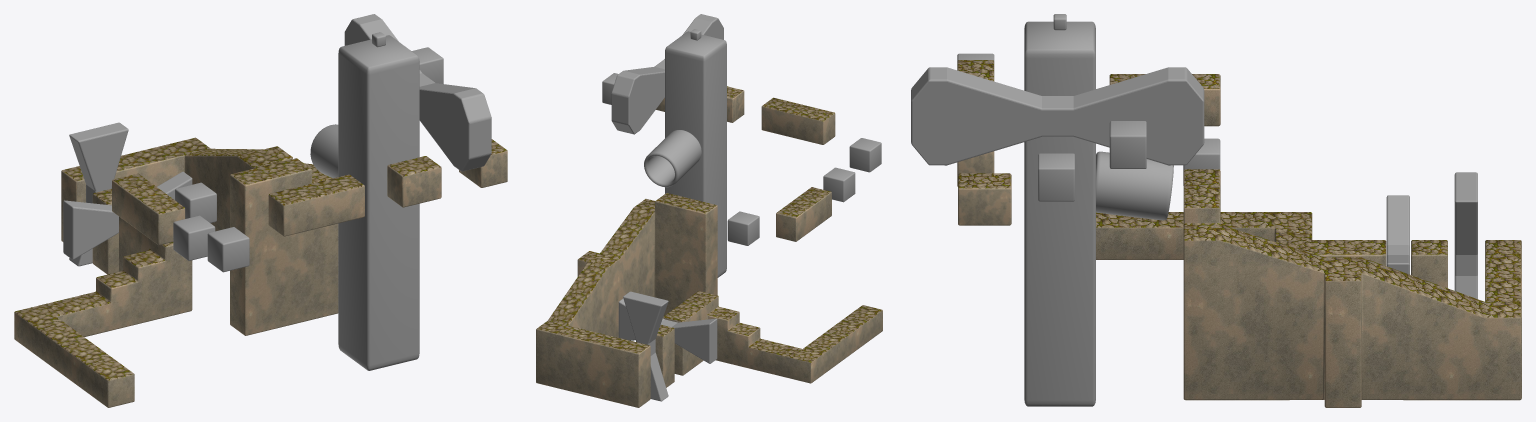
The picture shows the model from 3 angles, left to right: view 1: azimuth 30°, elevation 25°; view 2: azimuth 150°, elevation 25°; view 3: azimuth 270°, elevation 25°; orthographic projection. The views are drawn at different scales.
Visible parts, largest first — view 1: Statics, Cube.005, Propeller.3, Propeller.1, Propeller.2, FloatingPlatform.3, FloatingPlatform.2, BallShooter, FloatingPlatform.1, FloatingPlatform.5; view 2: Statics, Cube.005, Propeller.3, Propeller.1, BallShooter, Propeller.2, FloatingPlatform.1, FloatingPlatform.3, FloatingPlatform.2, FloatingPlatform.5; view 3: Statics, Cube.005, Propeller.3, BallShooter, Propeller.1, FloatingPlatform.5, Propeller.2, FloatingPlatform.4, FloatingPlatform.1.
Part boxes in pixels (x1,y1,x2,y2): Statics: [14, 137, 507, 407]; Cube.005: [338, 35, 419, 370]; Propeller.3: [344, 14, 491, 171]; Propeller.1: [69, 122, 128, 266]; Propeller.2: [63, 171, 192, 259]; FloatingPlatform.3: [207, 227, 249, 272]; FloatingPlatform.2: [173, 215, 215, 260]; BallShooter: [310, 124, 338, 178]; FloatingPlatform.1: [175, 182, 216, 222]; FloatingPlatform.5: [412, 47, 443, 83]; Statics: [536, 86, 882, 407]; Cube.005: [665, 31, 726, 277]; Propeller.3: [611, 14, 723, 134]; Propeller.1: [623, 291, 668, 401]; BallShooter: [644, 130, 701, 187]; Propeller.2: [618, 298, 717, 363]; FloatingPlatform.1: [727, 211, 759, 245]; FloatingPlatform.3: [849, 138, 881, 172]; FloatingPlatform.2: [823, 167, 855, 202]; FloatingPlatform.5: [602, 73, 618, 104]; Statics: [957, 60, 1521, 407]; Cube.005: [1024, 21, 1095, 406]; Propeller.3: [911, 67, 1204, 165]; BallShooter: [1096, 151, 1173, 220]; Propeller.1: [1454, 172, 1477, 298]; FloatingPlatform.5: [1109, 121, 1146, 168]; Propeller.2: [1386, 195, 1409, 274]; FloatingPlatform.4: [1038, 153, 1074, 201]; FloatingPlatform.1: [1183, 138, 1220, 185].
Bounding box in the file's own units: 26.08 × 23.38 × 34.07.
3 materials, 2 textured.
